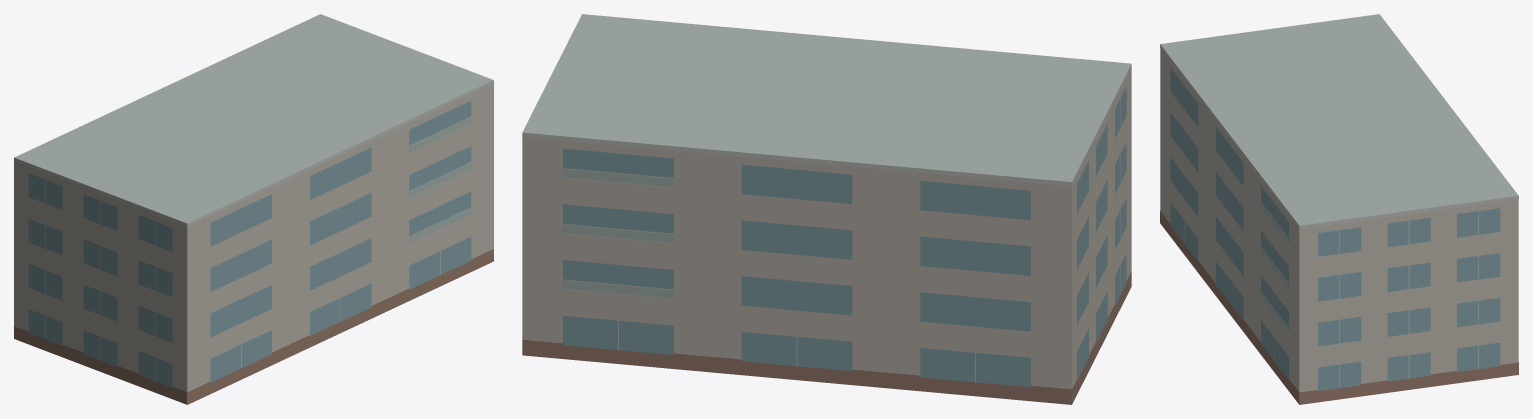
The model's file is residential-038fec91-5351-4869-ac89-9018f69f124a.glb.
3 renders of one model, left to right at view 1: azimuth 30°, elevation 25°; view 2: azimuth 150°, elevation 25°; view 3: azimuth 270°, elevation 25°, orthographic. The views are drawn at different scales.
Visible parts, largest first — view 1: residential-038fec91-5351-4869-ac89-9018f69f124a.tmp; view 2: residential-038fec91-5351-4869-ac89-9018f69f124a.tmp; view 3: residential-038fec91-5351-4869-ac89-9018f69f124a.tmp.
Boxes of the visible parts, bbox=[...] form: residential-038fec91-5351-4869-ac89-9018f69f124a.tmp: bbox=[14, 14, 493, 404]; residential-038fec91-5351-4869-ac89-9018f69f124a.tmp: bbox=[522, 14, 1131, 404]; residential-038fec91-5351-4869-ac89-9018f69f124a.tmp: bbox=[1160, 14, 1518, 404].
Size of the model in its own units: 30.93 by 12.2 by 22.14.
